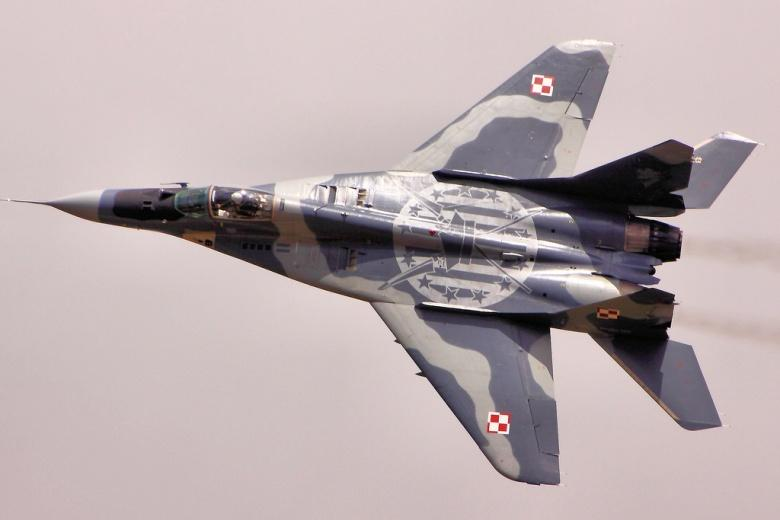Mig-29: (9, 26, 762, 490)
